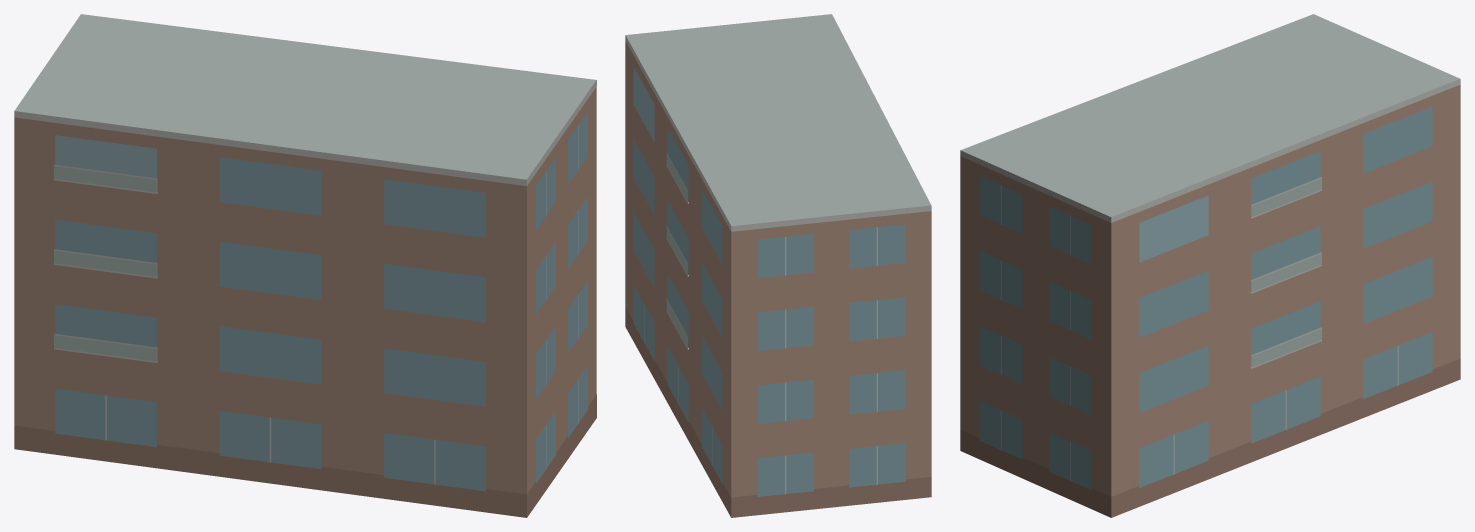
Rendered from survey-upis-33036396.glb.
3 renders of one model, left to right at view 1: azimuth 30°, elevation 25°; view 2: azimuth 150°, elevation 25°; view 3: azimuth 270°, elevation 25°, orthographic. The views are drawn at different scales.
Visible parts, largest first — view 1: survey-upis-33036396.tmp; view 2: survey-upis-33036396.tmp; view 3: survey-upis-33036396.tmp.
Boxes of the visible parts, <box> form: survey-upis-33036396.tmp: <box>14,14,596,517</box>; survey-upis-33036396.tmp: <box>625,14,931,517</box>; survey-upis-33036396.tmp: <box>960,14,1460,517</box>.
Size of the model in its own units: 18.57 by 12.8 by 19.31.
